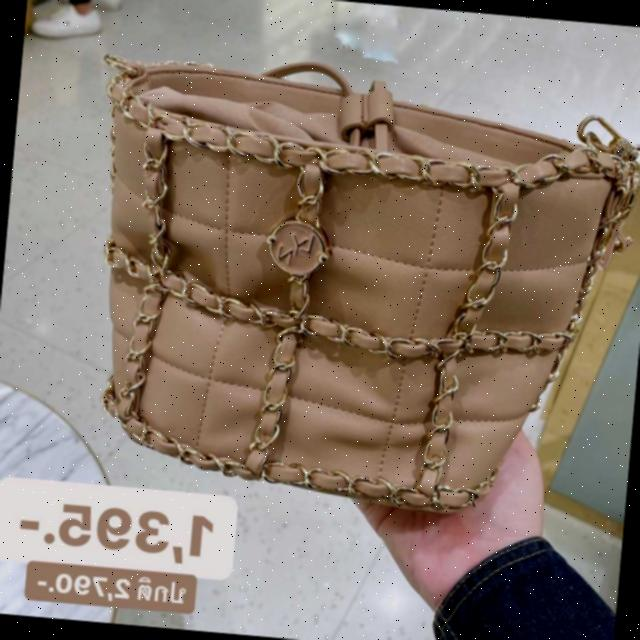handbag: (86, 62, 638, 526)
